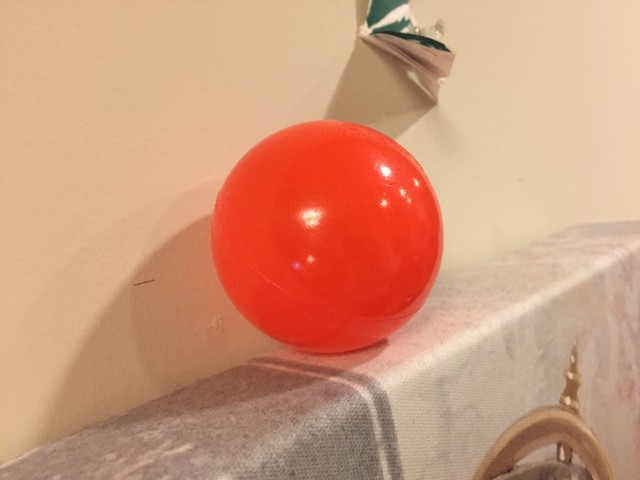Ball: (207, 120, 451, 353)
